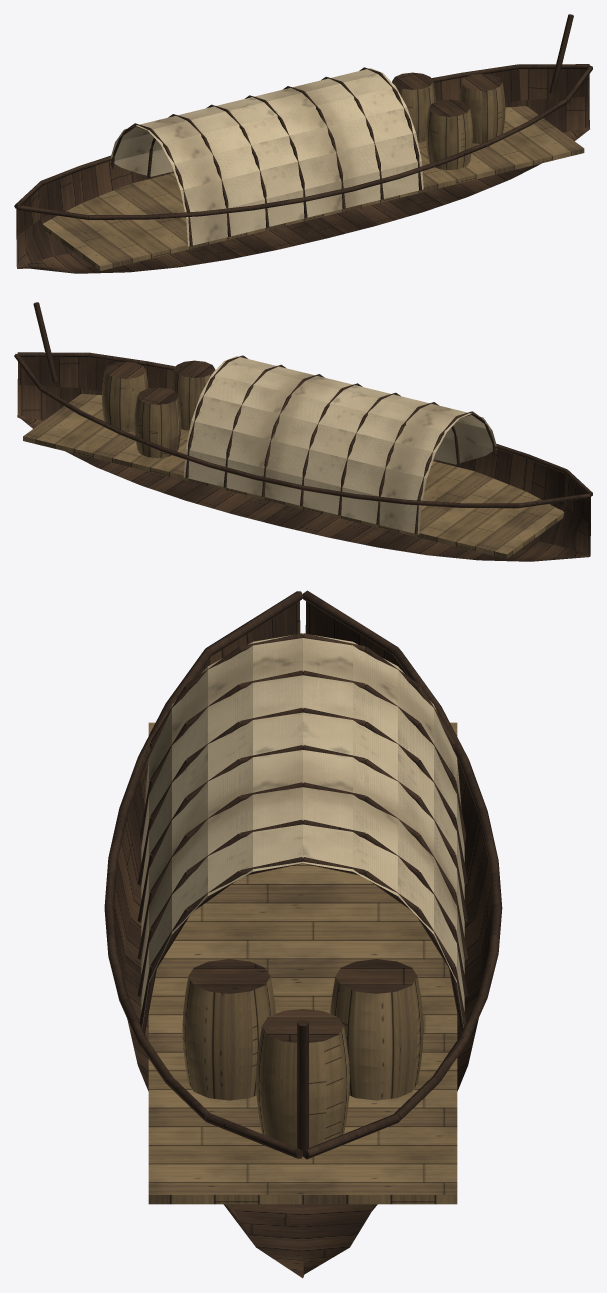
The model's file is boat_barge.gltf.
3 renders of one model, top to bottom at view 1: azimuth 30°, elevation 25°; view 2: azimuth 150°, elevation 25°; view 3: azimuth 270°, elevation 25°, orthographic. The views are drawn at different scales.
Visible parts, largest first — view 1: boat_barge_mesh; view 2: boat_barge_mesh; view 3: boat_barge_mesh.
Boxes of the visible parts, <box> form: boat_barge_mesh: <box>14,14,592,273</box>; boat_barge_mesh: <box>14,302,592,561</box>; boat_barge_mesh: <box>104,590,502,1278</box>.
Size of the model in its own units: 9.04 by 2.14 by 2.7.
4 materials, 4 textured.
